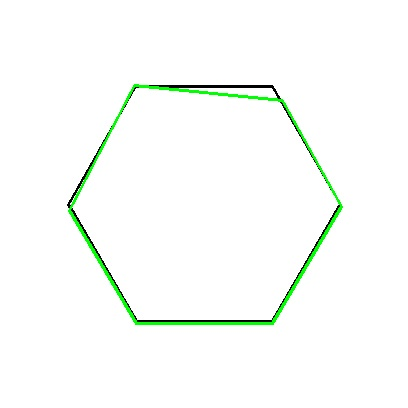line_segment: (67, 84, 342, 324)
